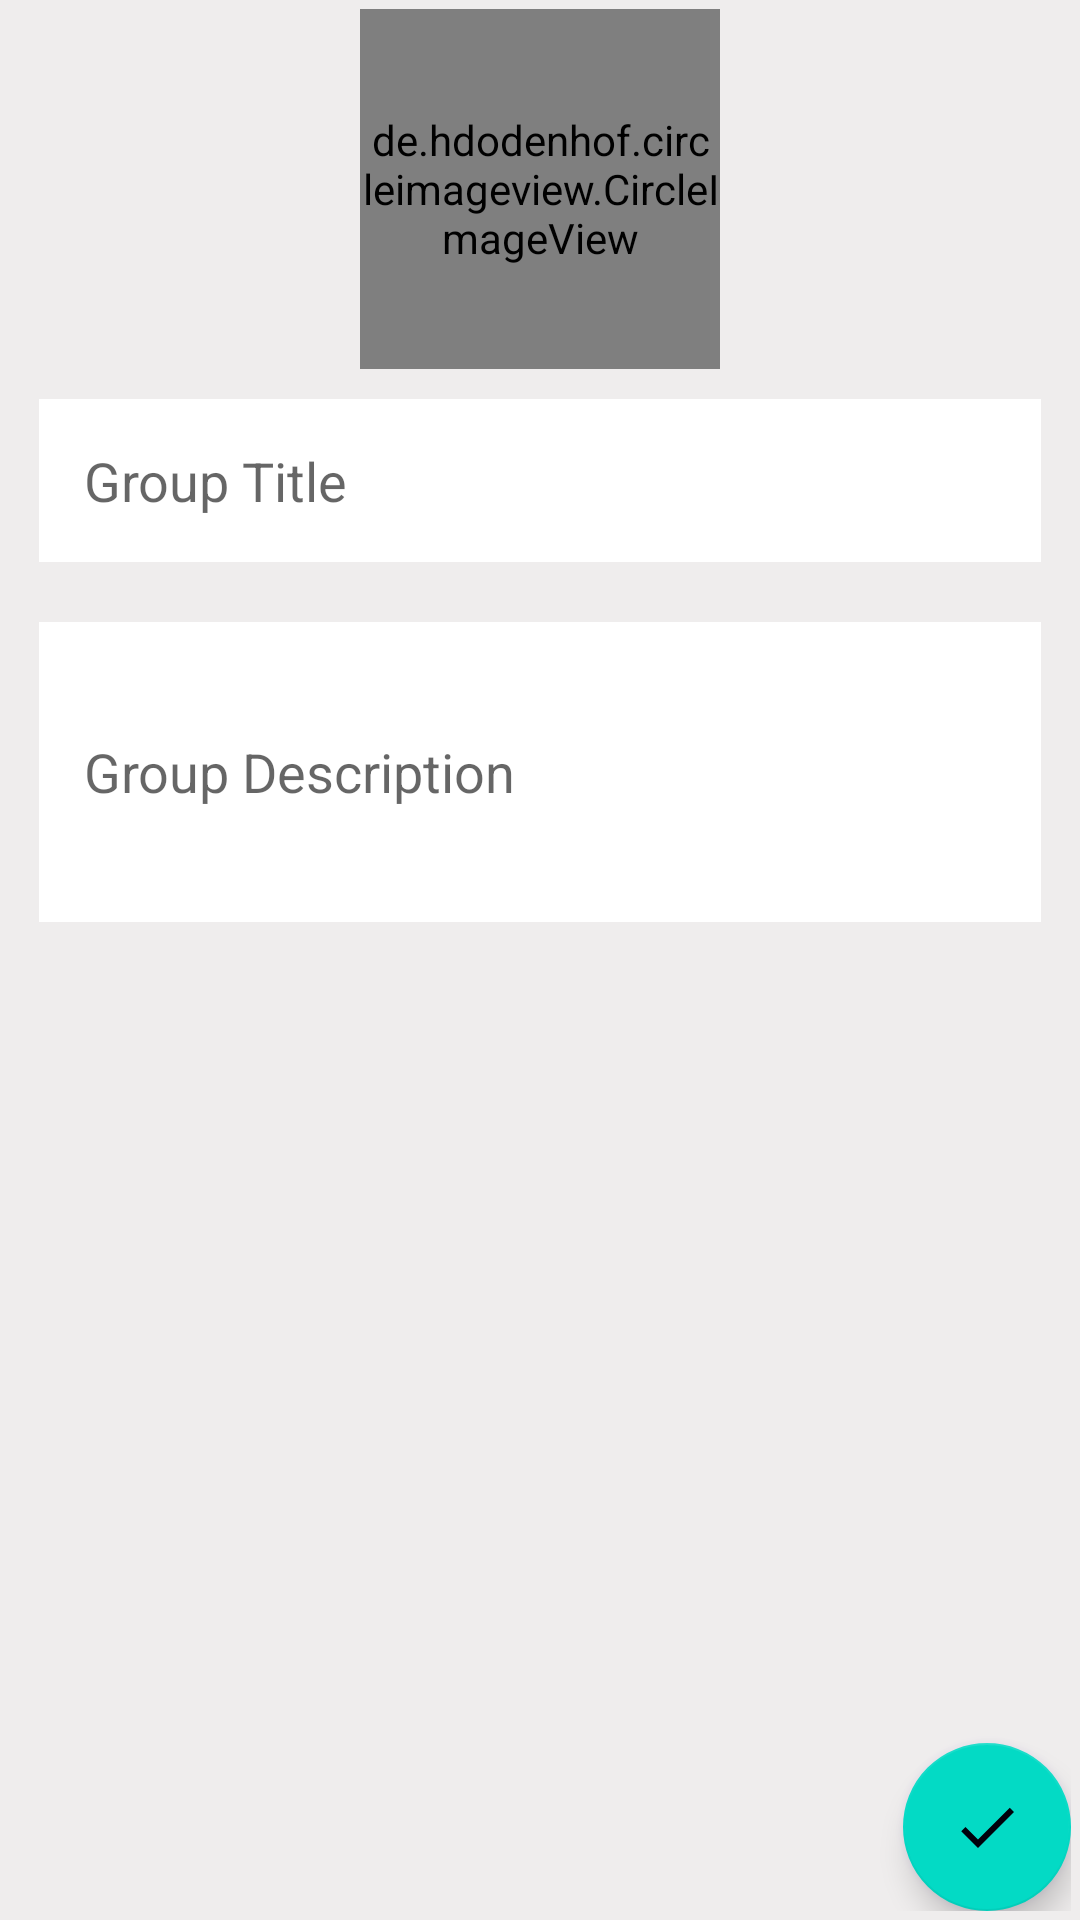

Icon bounding boxes for this 1080px×1920px phone screenshot, format (x1=x1, y1=y1, x2=x2, y2=y2):
check: (x1=903, y1=1743, x2=1071, y2=1911)
